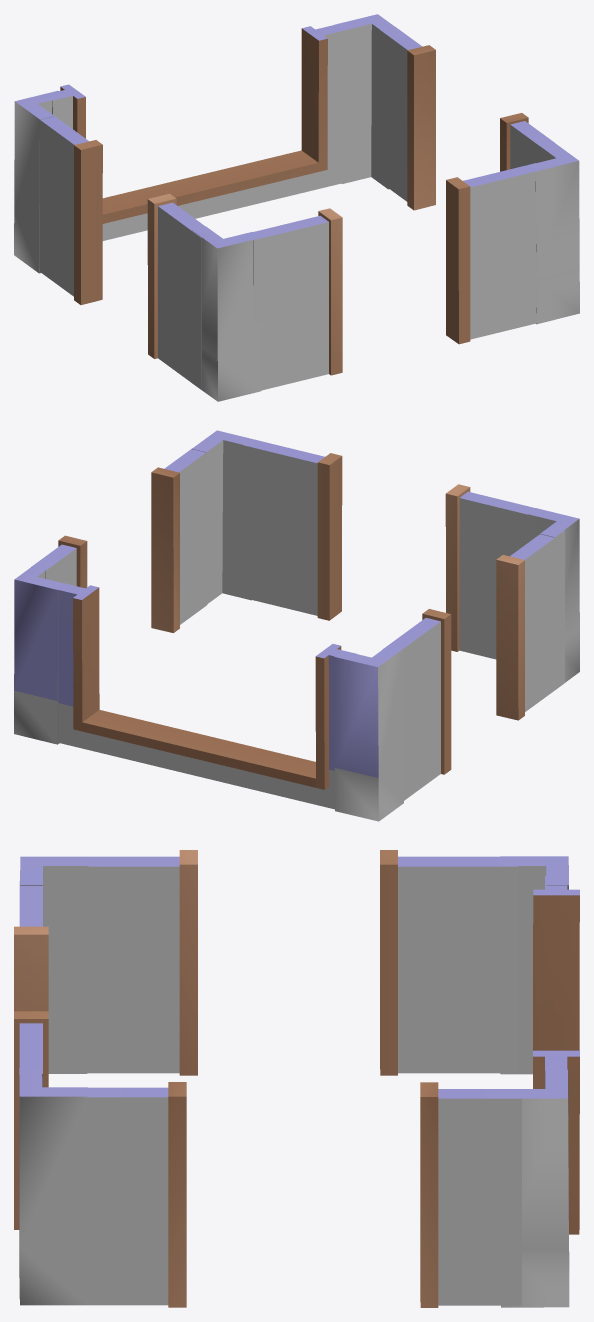
Rendered from LIBRERIA.fbx.
The picture shows the model from 3 angles, top to bottom: view 1: azimuth 30°, elevation 25°; view 2: azimuth 150°, elevation 25°; view 3: azimuth 270°, elevation 25°; orthographic projection. The views are drawn at different scales.
Visible parts, largest first — view 1: paret_puerta53, paret_puerta60, paret_con_ventana_grande27, paret_con_borde18, paret_esquina_96, paret_esquina_101, paret_esquina_97, paret_esquina_93, paret_con_borde20; view 2: paret_puerta53, paret_puerta60, paret_con_ventana_grande27, paret_esquina_93, paret_con_borde20, paret_esquina_97, paret_esquina_101, paret_esquina_96, paret_con_borde18; view 3: paret_puerta60, paret_con_borde20, paret_con_borde18, paret_esquina_101, paret_esquina_97, paret_con_ventana_grande27, paret_esquina_96, paret_puerta53, paret_esquina_93.
Boxes of the visible parts, left/top/right/bottom form: paret_puerta53: left=253, top=163, right=544, bottom=390; paret_puerta60: left=40, top=111, right=205, bottom=389; paret_con_ventana_grande27: left=52, top=24, right=344, bottom=240; paret_con_borde18: left=380, top=26, right=435, bottom=210; paret_esquina_96: left=192, top=226, right=261, bottom=401; paret_esquina_101: left=527, top=142, right=579, bottom=324; paret_esquina_97: left=335, top=14, right=394, bottom=189; paret_esquina_93: left=14, top=90, right=66, bottom=273; paret_con_borde20: left=500, top=113, right=554, bottom=171; paret_puerta53: left=243, top=439, right=535, bottom=659; paret_puerta60: left=382, top=530, right=564, bottom=800; paret_con_ventana_grande27: left=57, top=583, right=356, bottom=809; paret_esquina_93: left=334, top=645, right=403, bottom=821; paret_con_borde20: left=151, top=448, right=207, bottom=632; paret_esquina_97: left=14, top=567, right=64, bottom=744; paret_esquina_101: left=192, top=430, right=254, bottom=603; paret_esquina_96: left=527, top=508, right=579, bottom=682; paret_con_borde18: left=31, top=535, right=87, bottom=588; paret_puerta60: left=87, top=850, right=518, bottom=1075; paret_con_borde20: left=84, top=1082, right=186, bottom=1307; paret_con_borde18: left=420, top=1082, right=521, bottom=1307; paret_esquina_101: left=19, top=1068, right=88, bottom=1305; paret_esquina_97: left=501, top=1069, right=569, bottom=1307; paret_con_ventana_grande27: left=533, top=876, right=579, bottom=1234; paret_esquina_96: left=20, top=856, right=88, bottom=1073; paret_puerta53: left=14, top=881, right=48, bottom=1229; paret_esquina_93: left=500, top=856, right=568, bottom=1074.
Bounding box in the file's own units: 841 × 343 × 820.
